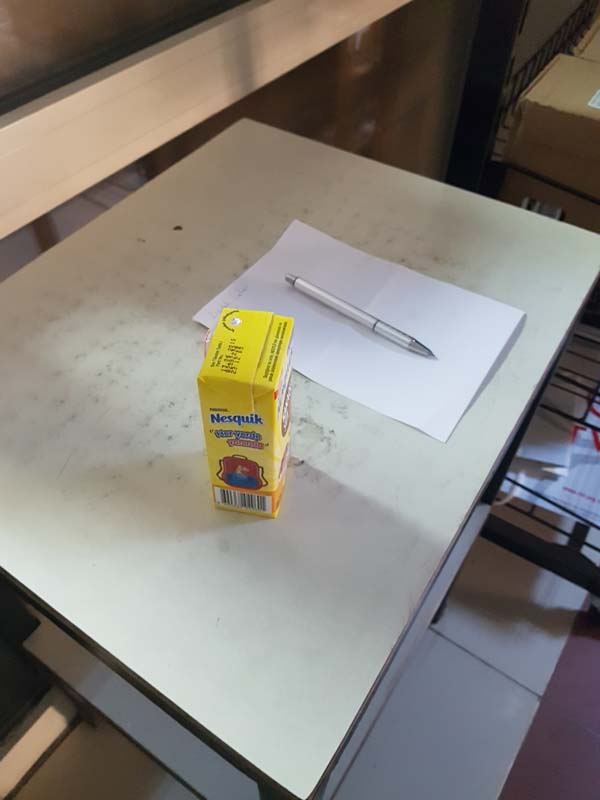nesquick200ml: (199, 305, 293, 523)
